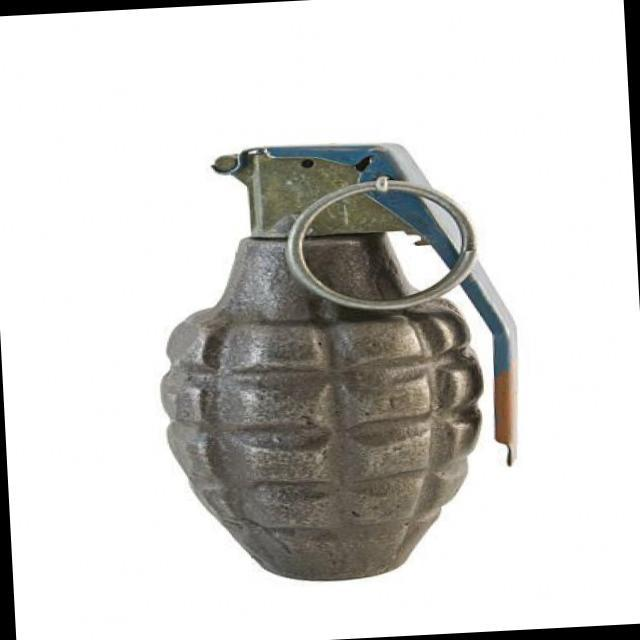grenade: (143, 125, 544, 600)
